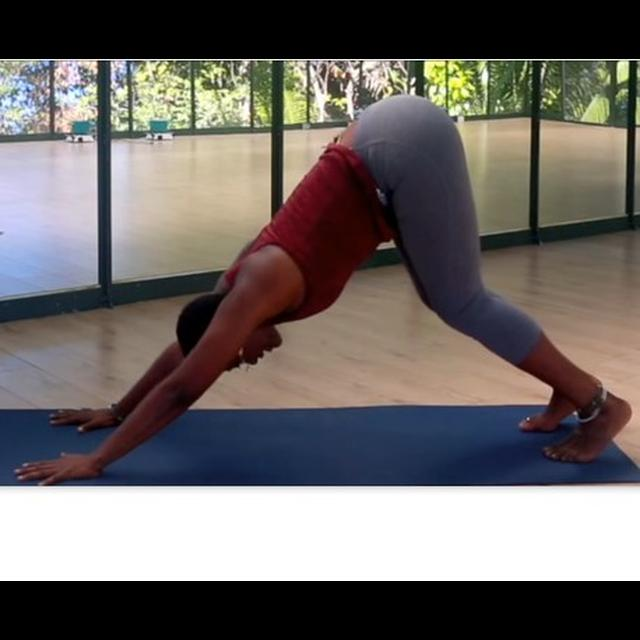Downward-Facing_Dog: (11, 91, 640, 485)
